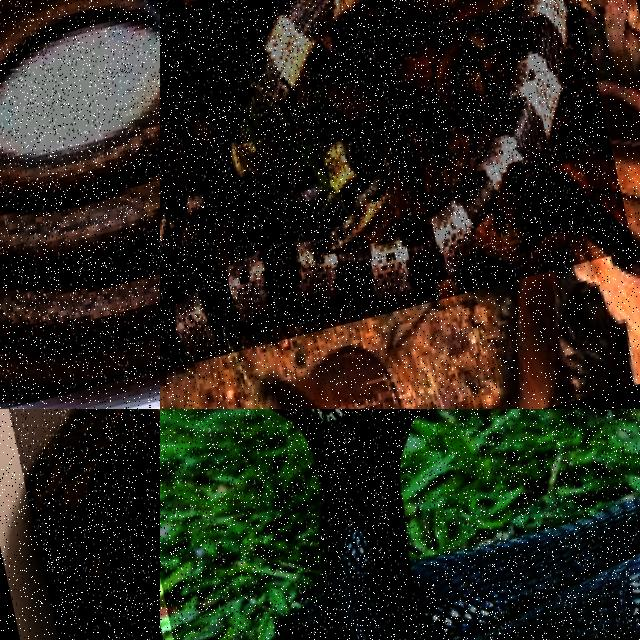Bungarus candidus: (160, 0, 568, 370)
Calliophis maculiceps: (0, 102, 159, 391)
Malayopython reticulatus: (32, 409, 159, 639)
Naja kaouthia: (273, 409, 639, 639)
snake: (160, 0, 568, 370), (273, 409, 639, 639), (0, 102, 159, 391), (32, 409, 159, 639)
